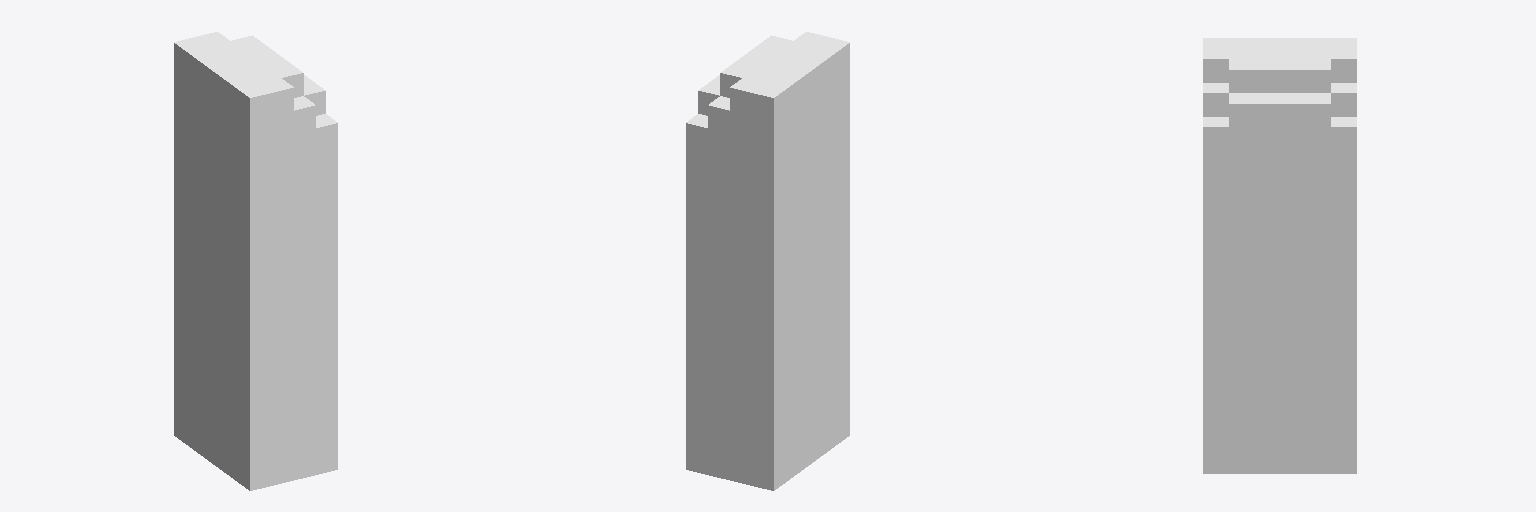
File: civil2-2.obj
The picture shows the model from 3 angles: view 1: azimuth 30°, elevation 25°; view 2: azimuth 150°, elevation 25°; view 3: azimuth 270°, elevation 25°; orthographic projection.
Visible parts, largest first — view 1: object 1; view 2: object 1; view 3: object 1.
Part boxes in pixels (x1,y1,x2,y2): object 1: (174,32,337,490); object 1: (686,32,849,490); object 1: (1203,38,1356,473).
Size of the model in its own units: 0.4 by 1.7 by 0.6.